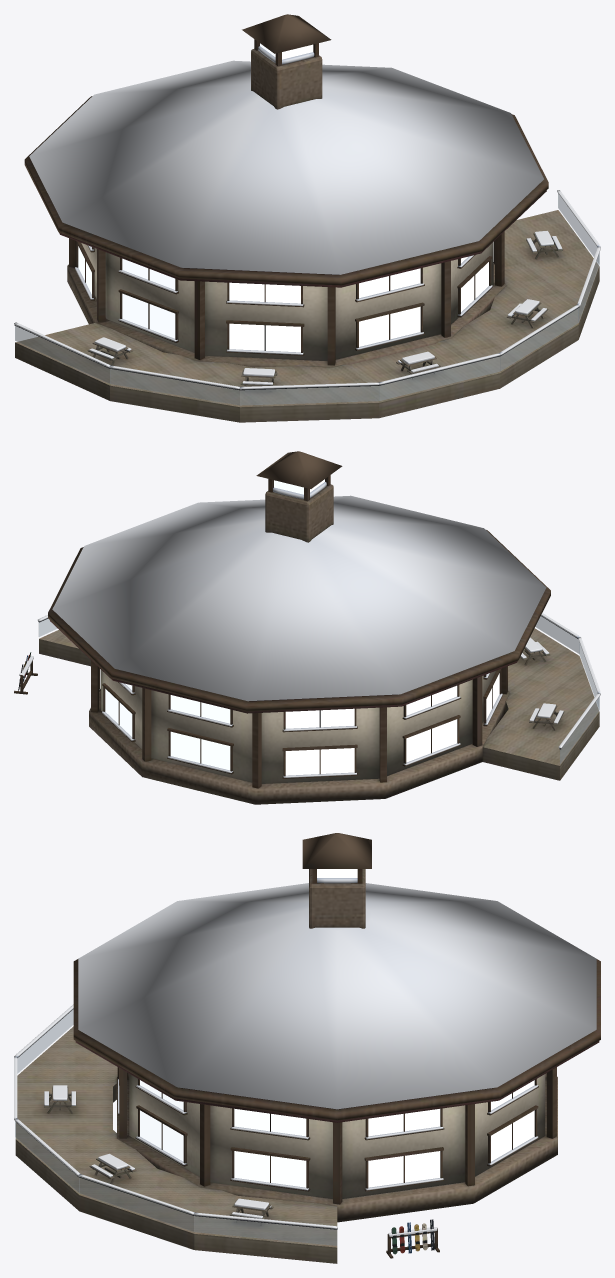
Rendered from roundhouse.glb.
3 renders of one model, top to bottom at view 1: azimuth 30°, elevation 25°; view 2: azimuth 150°, elevation 25°; view 3: azimuth 270°, elevation 25°, orthographic. The views are drawn at different scales.
Parts seen in each view (by area): view 1: roundhouse_snow, roundhouse, roundhouse_glass, roundhouse_lit; view 2: roundhouse_snow, roundhouse, roundhouse_lit, roundhouse_glass; view 3: roundhouse_snow, roundhouse, roundhouse_lit, roundhouse_glass.
Boxes of the visible parts, box(x1,y1,x2,y2) form: roundhouse_snow: box(14, 46, 600, 389); roundhouse: box(14, 14, 599, 422); roundhouse_glass: box(15, 194, 599, 405); roundhouse_lit: box(78, 43, 493, 352); roundhouse_snow: box(19, 482, 600, 777); roundhouse: box(14, 451, 599, 804); roundhouse_lit: box(100, 479, 499, 775); roundhouse_glass: box(38, 616, 599, 763); roundhouse_snow: box(14, 878, 596, 1236); roundhouse: box(15, 833, 600, 1263); roundhouse_lit: box(140, 869, 534, 1187); roundhouse_glass: box(15, 1009, 337, 1245).
Bounding box in the file's own units: 35.16 × 17.31 × 31.13.
4 materials, 1 textured.
